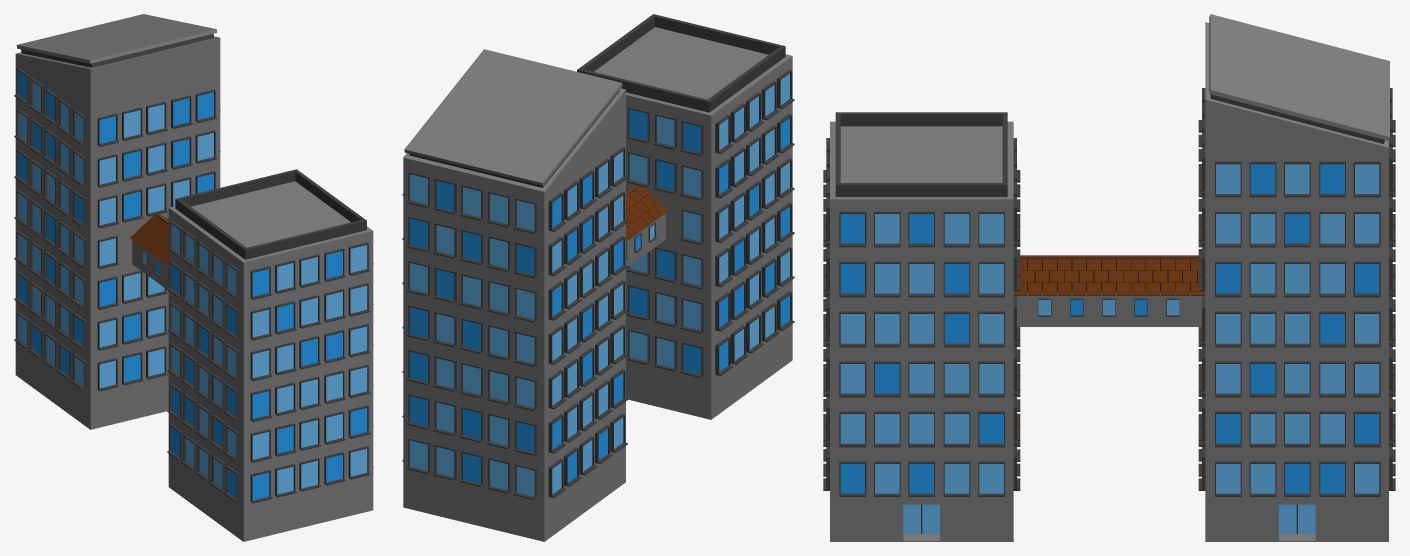
The model's file is building_05.fbx.
3 renders of one model, left to right at view 1: azimuth 30°, elevation 25°; view 2: azimuth 150°, elevation 25°; view 3: azimuth 270°, elevation 25°, orthographic. The views are drawn at different scales.
Parts seen in each view (by area): view 1: building_05; view 2: building_05; view 3: building_05.
Boxes of the visible parts, bbox=[...] form: building_05: bbox=[14, 14, 373, 541]; building_05: bbox=[402, 14, 794, 541]; building_05: bbox=[823, 14, 1395, 541].
Size of the model in its own units: 1072 by 2710 by 3116.
1 material, 1 textured.
